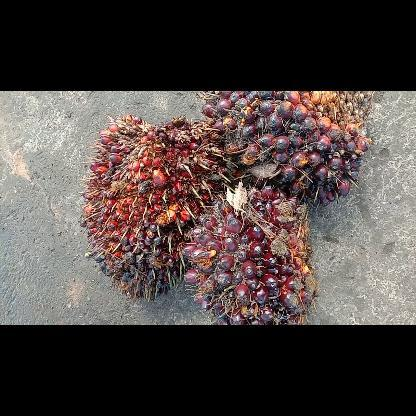Kurang masak: (182, 184, 318, 324), (201, 92, 369, 204)
TBS masak: (82, 116, 228, 300)
